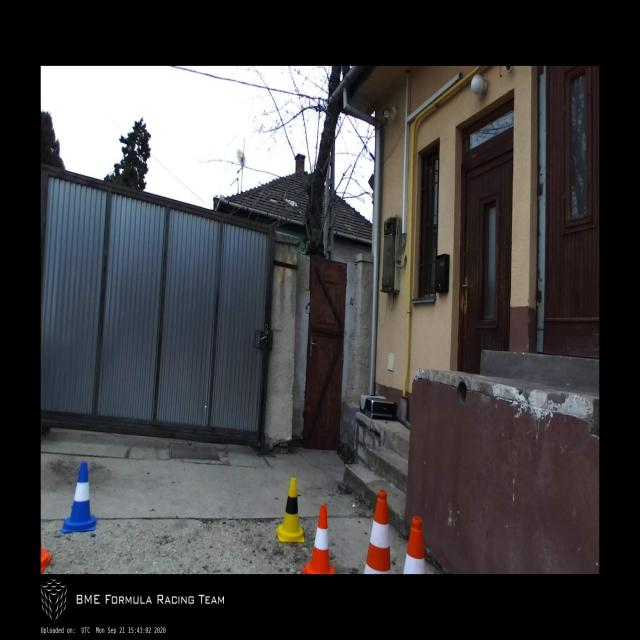blue_cone: (60, 461, 97, 534)
large_orange_cone: (364, 489, 391, 574), (404, 516, 426, 574)
orange_cone: (301, 505, 336, 574)
yellow_cone: (276, 478, 304, 542)
